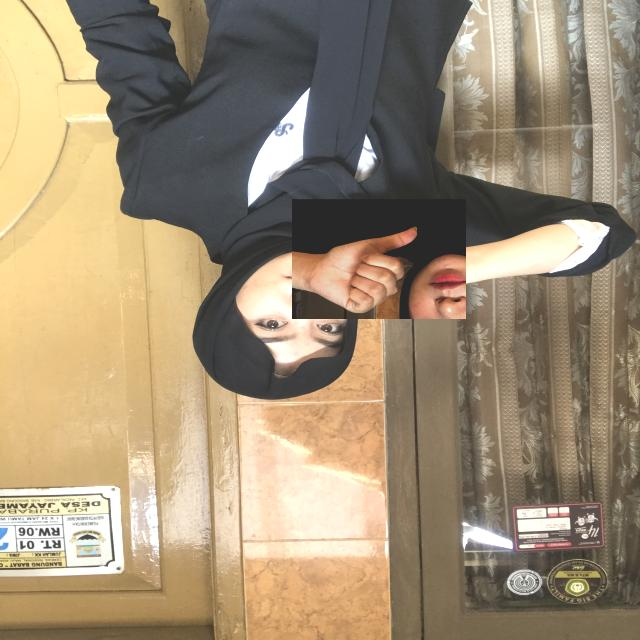sedih: (293, 198, 467, 318)
